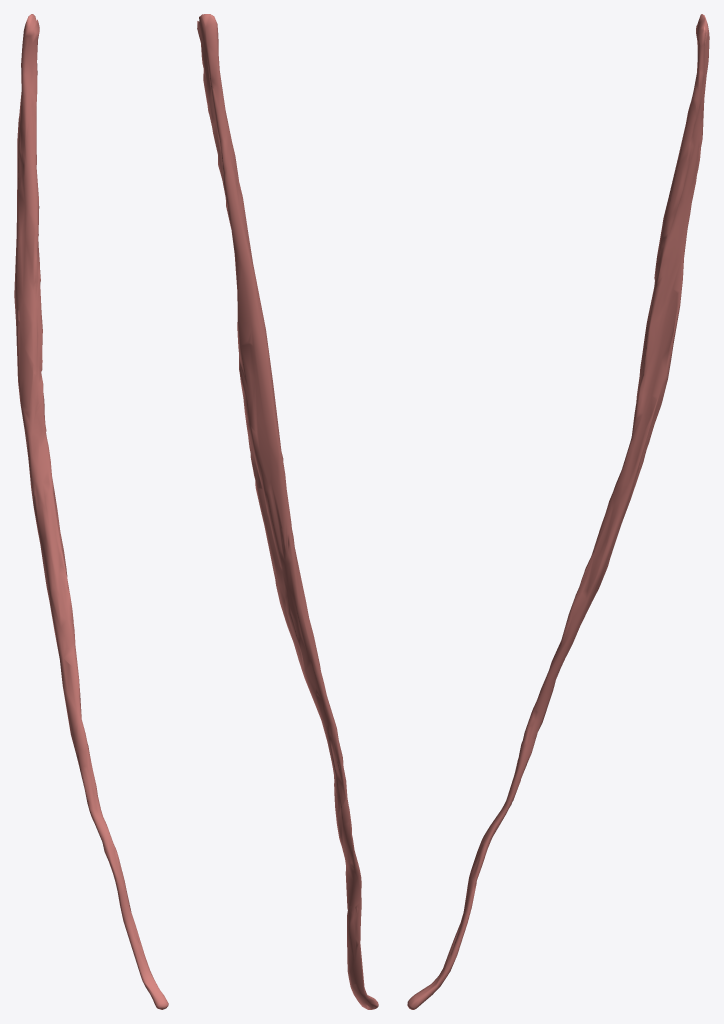
The picture shows the model from 3 angles, left to right: view 1: azimuth 30°, elevation 25°; view 2: azimuth 150°, elevation 25°; view 3: azimuth 270°, elevation 25°; orthographic projection. The views are drawn at different scales.
Visible parts, largest first — view 1: ZA_2c3b9ed0fe270cad; view 2: ZA_2c3b9ed0fe270cad; view 3: ZA_2c3b9ed0fe270cad.
Part boxes in pixels (left/top/right/bottom): ZA_2c3b9ed0fe270cad: left=14, top=14, right=168, bottom=1009; ZA_2c3b9ed0fe270cad: left=197, top=14, right=378, bottom=1009; ZA_2c3b9ed0fe270cad: left=407, top=14, right=709, bottom=1009.
Bounding box in the file's own units: 0.0168 × 0.3359 × 0.0926.
